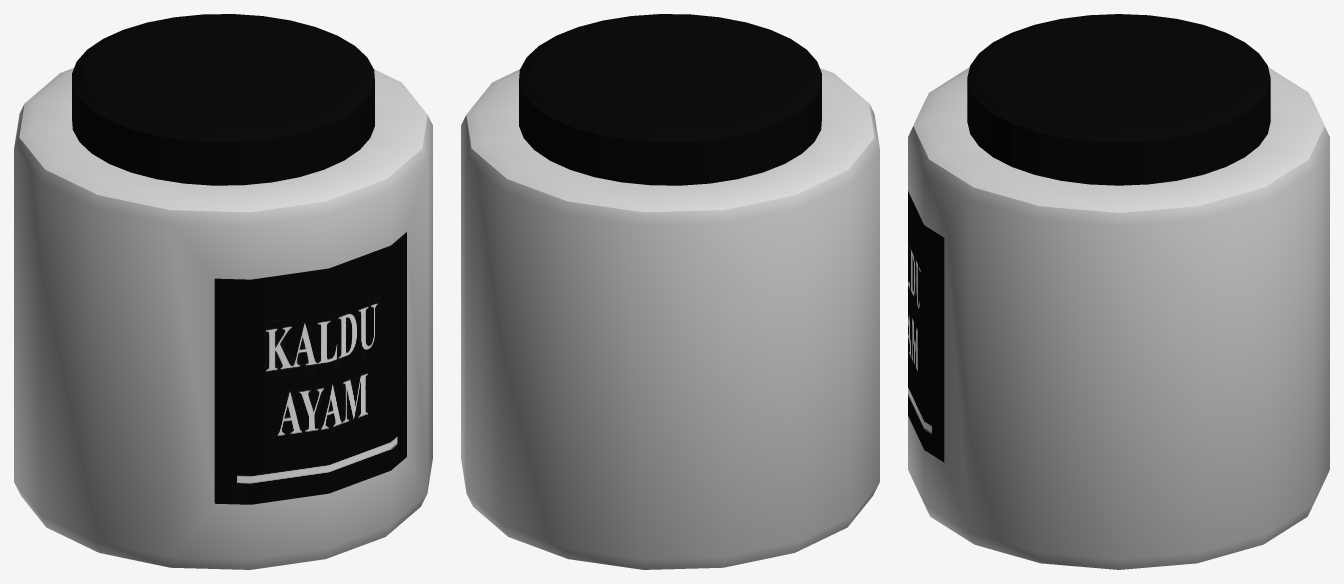
The model's file is toples revisi.fbx.
The picture shows the model from 3 angles, left to right: view 1: azimuth 30°, elevation 25°; view 2: azimuth 150°, elevation 25°; view 3: azimuth 270°, elevation 25°; orthographic projection.
Parts seen in each view (by area): view 1: toples, tutup toples; view 2: toples, tutup toples; view 3: toples, tutup toples.
Part boxes in pixels (x1,y1,x2,y2): toples: (14, 68, 432, 569); tutup toples: (72, 14, 374, 185); toples: (461, 68, 879, 569); tutup toples: (519, 14, 821, 185); toples: (908, 67, 1329, 569); tutup toples: (967, 14, 1270, 185).
Size of the model in its own units: 71.69 by 78.44 by 71.69.
Materials: 3 (1 with a texture image).
